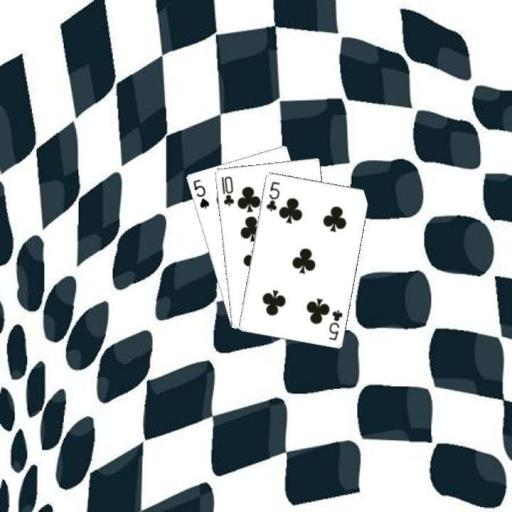10C: (218, 173, 236, 207)
5C: (262, 178, 281, 213), (326, 307, 344, 342)
5S: (189, 176, 211, 210)
